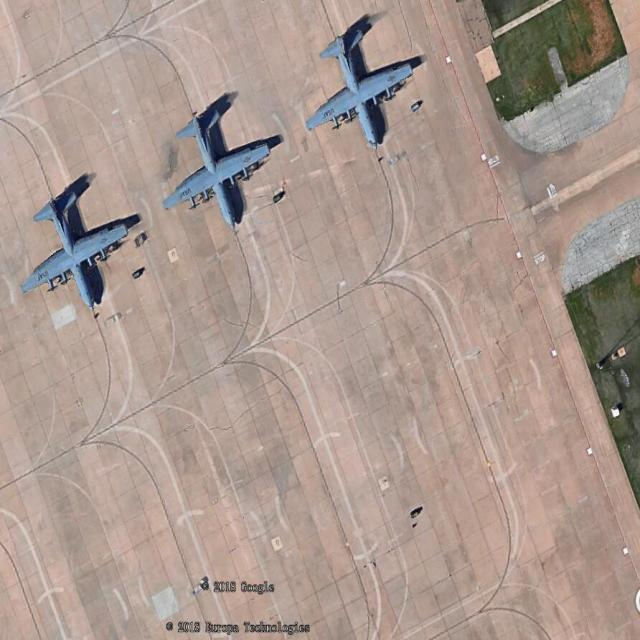fighter jet: (27, 172, 123, 324), (321, 20, 411, 156), (178, 100, 268, 232)
